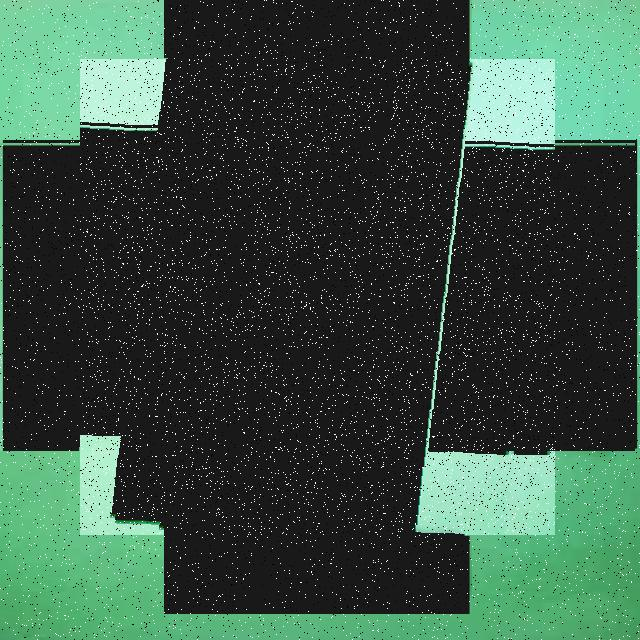lima puluh ribu rupiah: (80, 59, 555, 535)
